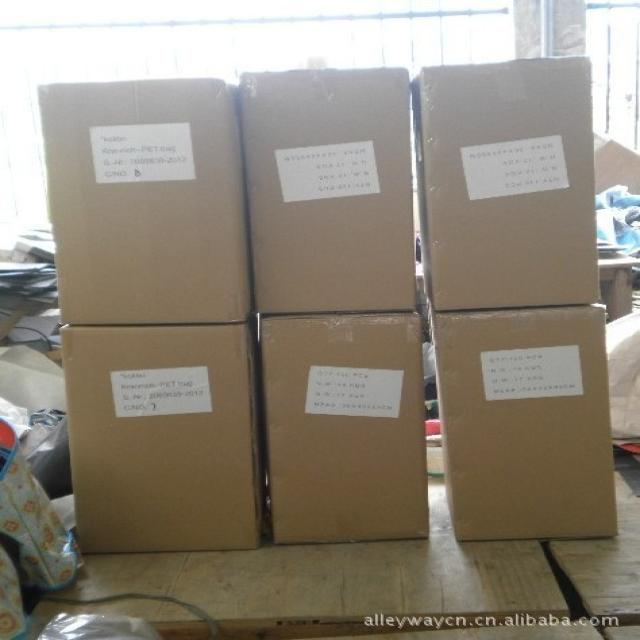box: (43, 78, 256, 324), (410, 57, 603, 309), (63, 315, 260, 554), (429, 305, 618, 545), (238, 67, 413, 314), (260, 310, 431, 547), (592, 129, 639, 197)
